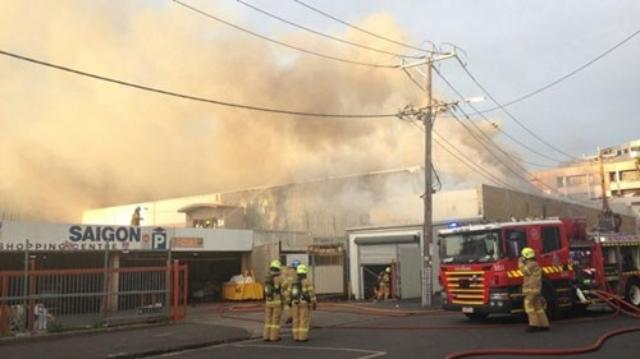smoke: (1, 1, 539, 234)
